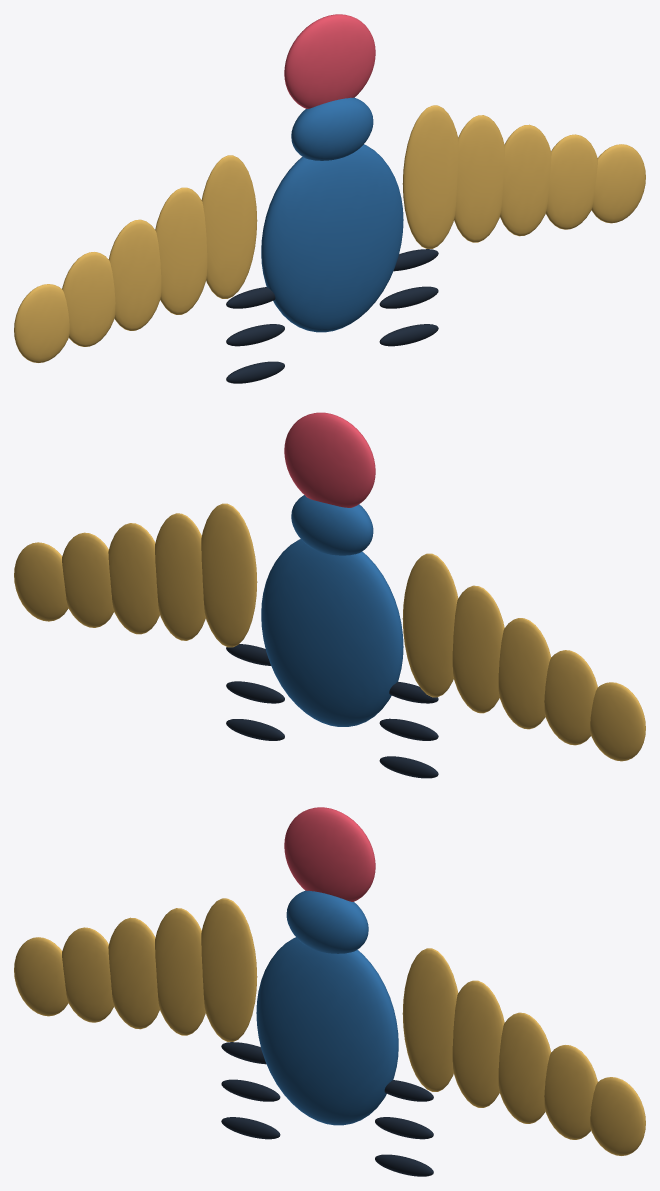
File: deco_escarabajo.glb
The picture shows the model from 3 angles, top to bottom: view 1: azimuth 30°, elevation 25°; view 2: azimuth 150°, elevation 25°; view 3: azimuth 330°, elevation 25°; orthographic projection.
Visible parts, largest first — view 1: cuerpo escarabajo.001, sol escarabajo.001, pluma 10.001, pluma -10.001, pluma -11.001, pluma 11.001, pluma -12.001, pluma 12.001, cabeza escarabajo.001, pluma -13.001, pluma 13.001, pluma -14.001 (+7 smaller); view 2: cuerpo escarabajo.001, sol escarabajo.001, pluma 10.001, pluma -10.001, pluma -11.001, pluma 11.001, pluma -12.001, pluma 12.001, pluma -13.001, pluma 13.001, cabeza escarabajo.001, pluma -14.001 (+7 smaller); view 3: cuerpo escarabajo.001, sol escarabajo.001, pluma -10.001, pluma 10.001, pluma 11.001, pluma -11.001, pluma 12.001, pluma -12.001, cabeza escarabajo.001, pluma 13.001, pluma -13.001, pluma 14.001 (+7 smaller).
Part boxes in pixels (left/top/right/bottom): cuerpo escarabajo.001: left=261, top=144, right=403, bottom=332; sol escarabajo.001: left=284, top=14, right=375, bottom=108; pluma 10.001: left=402, top=105, right=458, bottom=248; pluma -10.001: left=201, top=155, right=257, bottom=298; pluma -11.001: left=155, top=187, right=207, bottom=314; pluma 11.001: left=454, top=115, right=504, bottom=242; pluma -12.001: left=108, top=219, right=161, bottom=330; pluma 12.001: left=500, top=124, right=551, bottom=236; cabeza escarabajo.001: left=291, top=97, right=373, bottom=160; pluma -13.001: left=62, top=252, right=115, bottom=346; pluma 13.001: left=546, top=134, right=597, bottom=229; pluma -14.001: left=14, top=284, right=69, bottom=362; cuerpo escarabajo.001: left=261, top=539, right=403, bottom=726; sol escarabajo.001: left=284, top=412, right=375, bottom=507; pluma 10.001: left=201, top=503, right=257, bottom=647; pluma -10.001: left=402, top=553, right=458, bottom=697; pluma -11.001: left=452, top=585, right=504, bottom=713; pluma 11.001: left=155, top=513, right=205, bottom=640; pluma -12.001: left=498, top=618, right=551, bottom=729; pluma 12.001: left=108, top=523, right=159, bottom=634; pluma -13.001: left=544, top=650, right=597, bottom=745; pluma 13.001: left=62, top=532, right=113, bottom=627; cabeza escarabajo.001: left=291, top=495, right=373, bottom=555; pluma -14.001: left=590, top=682, right=645, bottom=761; cuerpo escarabajo.001: left=256, top=937, right=398, bottom=1125; sol escarabajo.001: left=284, top=807, right=375, bottom=901; pluma -10.001: left=201, top=898, right=257, bottom=1041; pluma 10.001: left=402, top=948, right=458, bottom=1091; pluma 11.001: left=452, top=980, right=504, bottom=1107; pluma -11.001: left=155, top=908, right=205, bottom=1035; pluma 12.001: left=498, top=1012, right=551, bottom=1123; pluma -12.001: left=108, top=917, right=159, bottom=1029; cabeza escarabajo.001: left=286, top=890, right=368, bottom=953; pluma 13.001: left=544, top=1045, right=597, bottom=1139; pluma -13.001: left=62, top=927, right=113, bottom=1022; pluma 14.001: left=590, top=1077, right=645, bottom=1155.
Bounding box in the file's own units: 0.6175 × 0.3218 × 0.0392.
